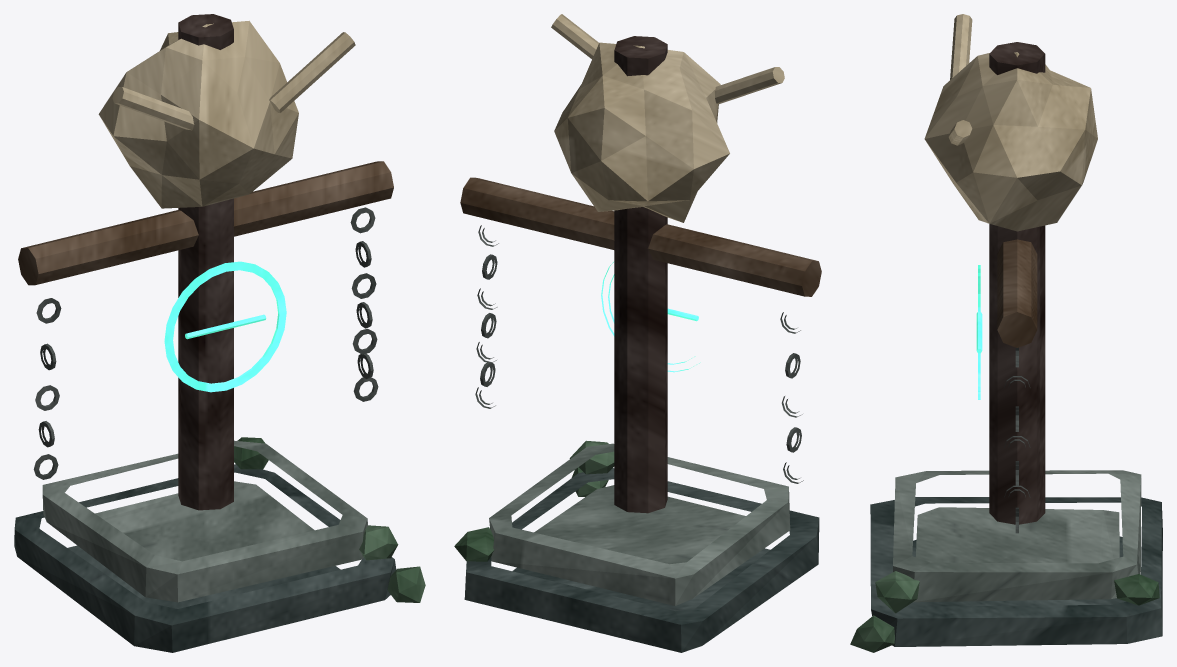
The model's file is 0508_effigy_08.glb.
3 renders of one model, left to right at view 1: azimuth 30°, elevation 25°; view 2: azimuth 150°, elevation 25°; view 3: azimuth 270°, elevation 25°, orthographic. The views are drawn at different scales.
Visible parts, largest first — view 1: bone, stone, stone_dark, wood_dark, wood, glow, iron, moss; view 2: stone, bone, stone_dark, wood_dark, wood, moss, iron; view 3: bone, stone, stone_dark, wood_dark, wood, moss, iron, glow.
Boxes of the visible parts, <box> form: bone: <box>98,20,355,208</box>; stone: <box>42,440,368,602</box>; stone_dark: <box>14,464,396,652</box>; wood_dark: <box>178,14,233,510</box>; wood: <box>18,161,393,285</box>; glow: <box>164,261,286,392</box>; iron: <box>33,207,378,479</box>; moss: <box>234,437,425,602</box>; stone: <box>489,443,790,605</box>; bone: <box>551,14,784,222</box>; stone_dark: <box>464,468,819,652</box>; wood_dark: <box>614,36,667,513</box>; wood: <box>460,177,821,296</box>; moss: <box>454,440,614,561</box>; iron: <box>475,225,803,483</box>; bone: <box>924,14,1097,231</box>; stone: <box>893,470,1141,602</box>; stone_dark: <box>870,497,1162,646</box>; wood_dark: <box>989,42,1045,524</box>; wood: <box>997,239,1037,347</box>; moss: <box>850,571,1159,652</box>; iron: <box>1004,347,1030,533</box>; glow: <box>976,265,982,399</box>.
Size of the model in its own units: 2 by 2.97 by 1.57.
8 materials, 8 textured.
